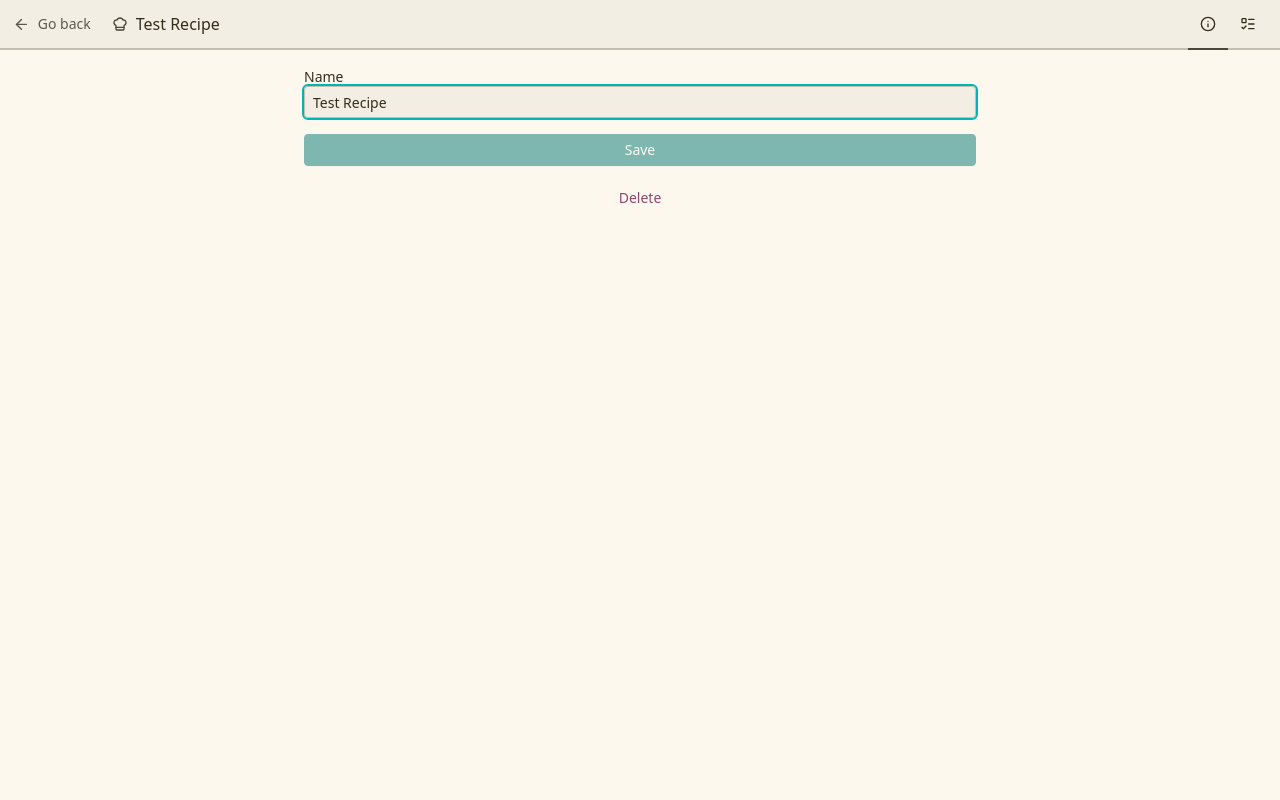
Test: Recipe Detail - Info Tab › user can navigate back after saving recipe name
// When user changes recipe name
Replace the text in the field labelled "Name" with "Updated Recipe" at coordinates (640, 102), box [304, 86, 976, 118]
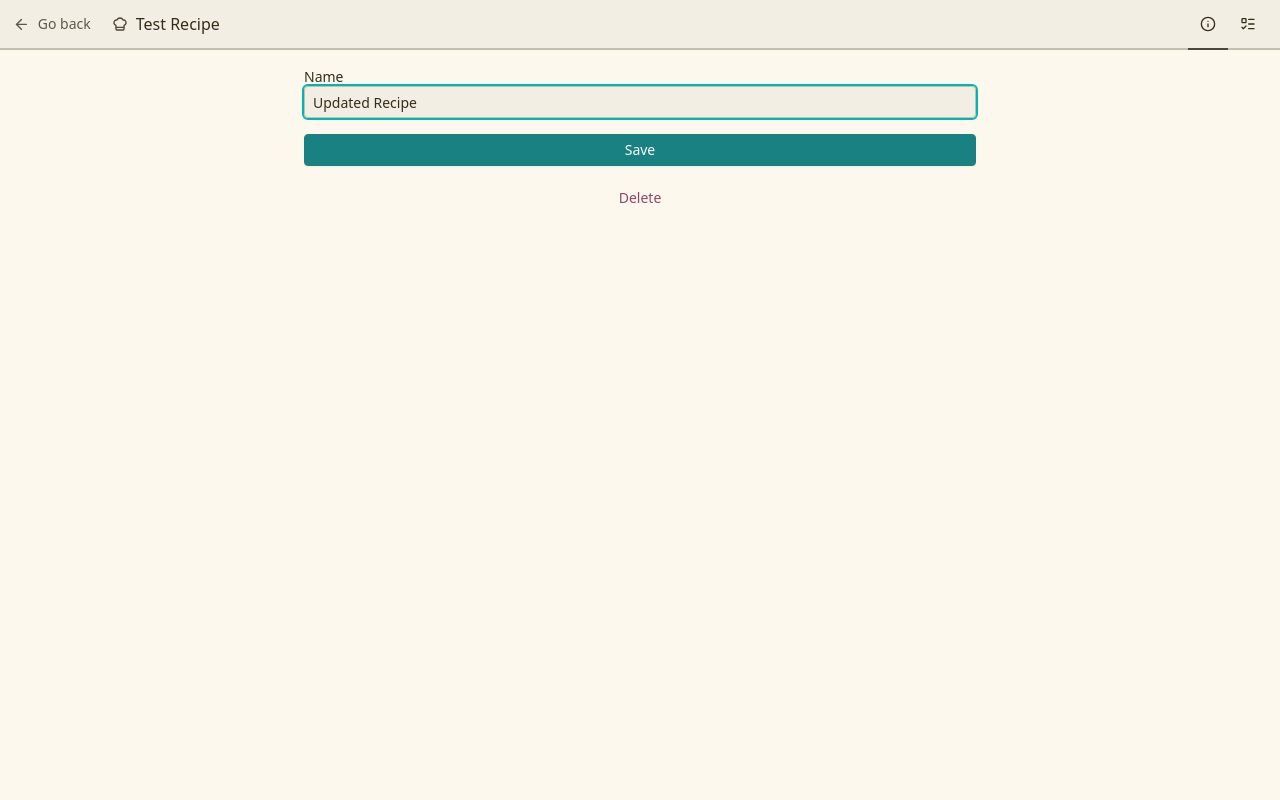
// And saves the form
Click the button "Save" at coordinates (640, 150), box [304, 134, 976, 166]
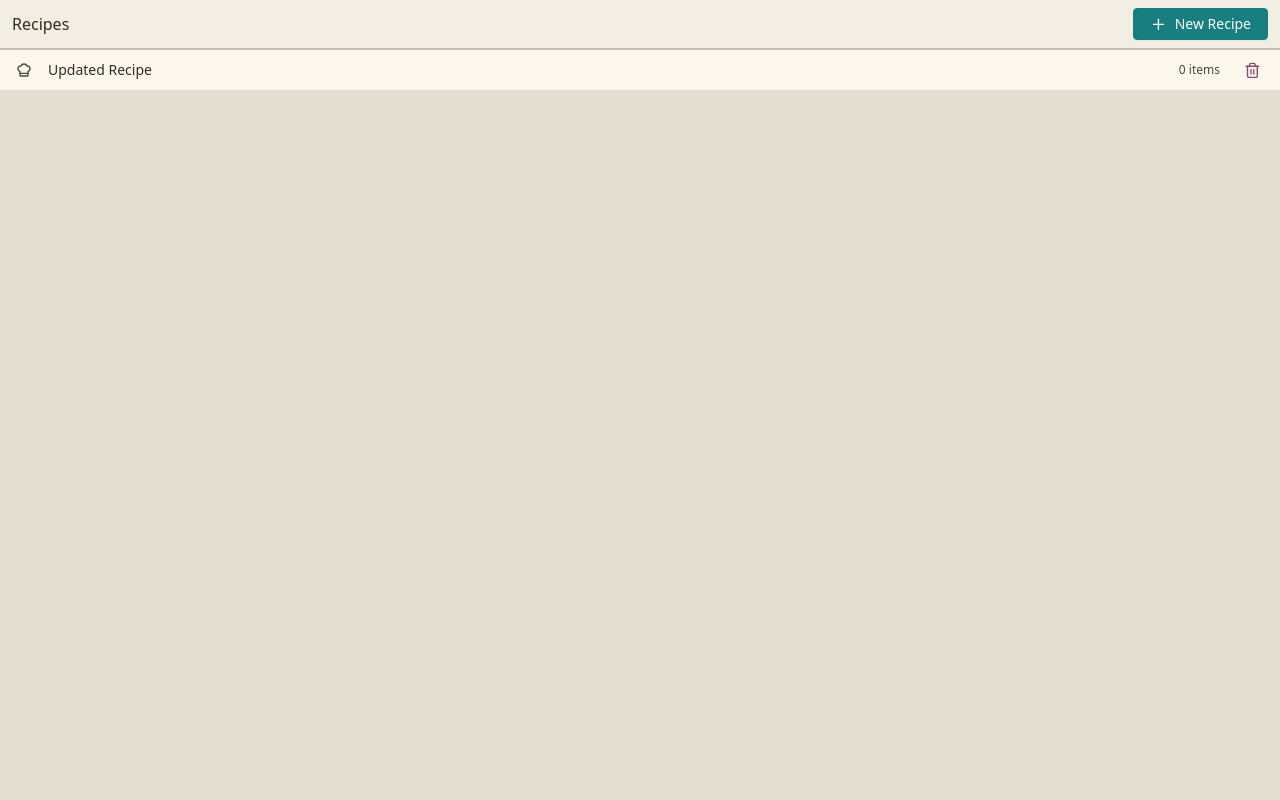
Check: the heading "Recipes" is shown, box [12, 14, 69, 34]
Check: the button "New Recipe" is shown, box [1133, 8, 1268, 40]
